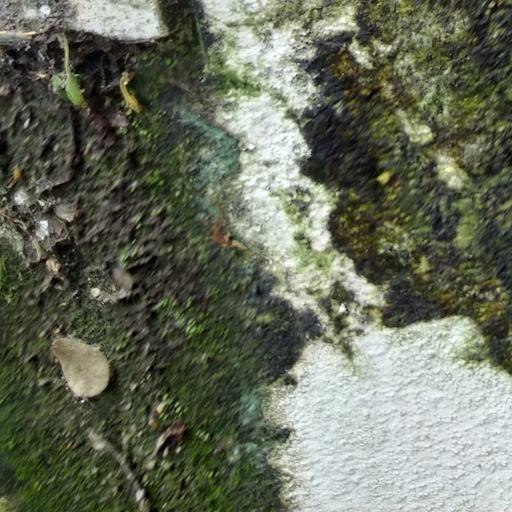algae: (0, 0, 377, 511)
